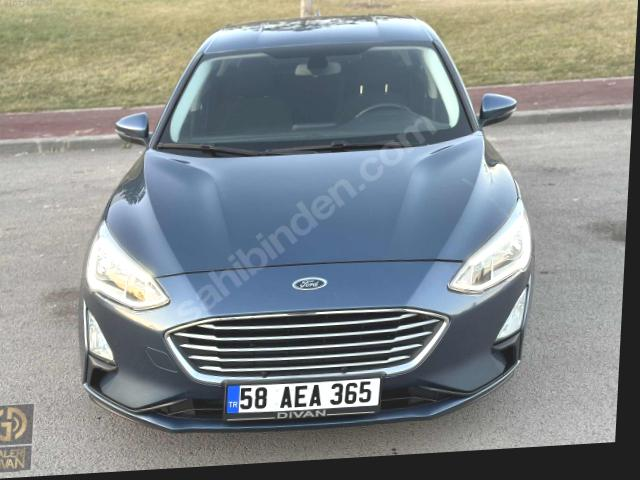plaka: (225, 378, 381, 419)
